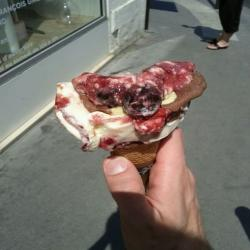icecream: (53, 62, 196, 147)
